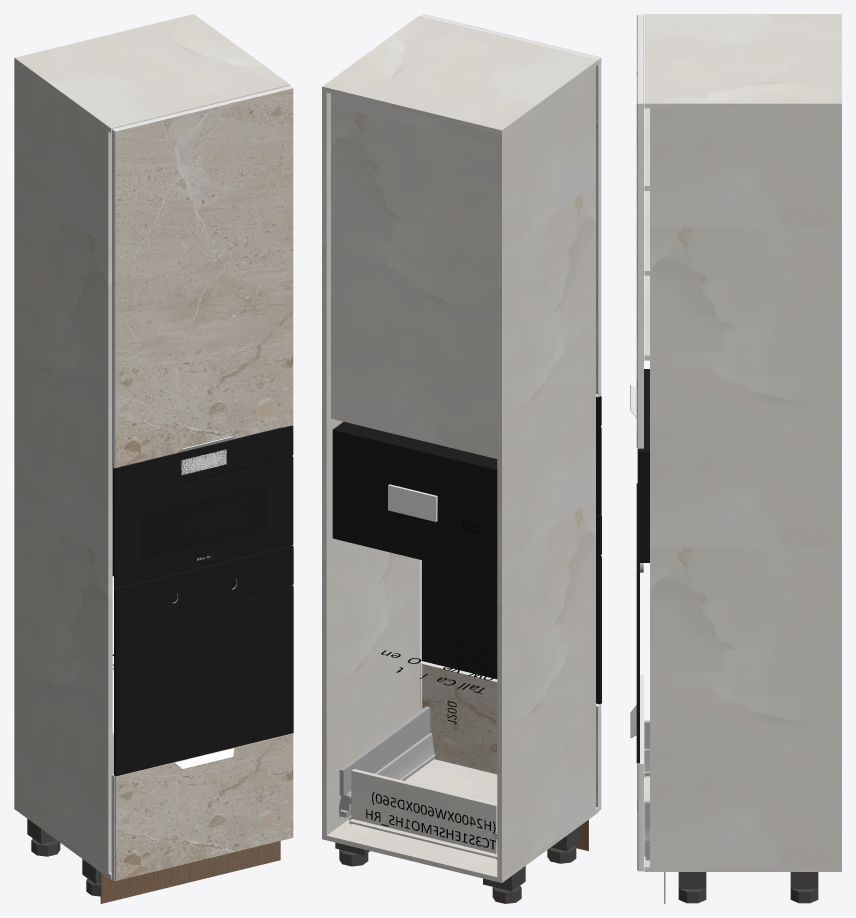
The model's file is TC3S1EHSFMO1HS_RH (H2400XW600XD560).glb.
The picture shows the model from 3 angles, left to right: view 1: azimuth 30°, elevation 25°; view 2: azimuth 150°, elevation 25°; view 3: azimuth 270°, elevation 25°; orthographic projection. The views are drawn at different scales.
Size of what is drawn, in the model's own units: 0.6 by 2.5 by 0.5999.
Materials: 14 (3 with a texture image).
